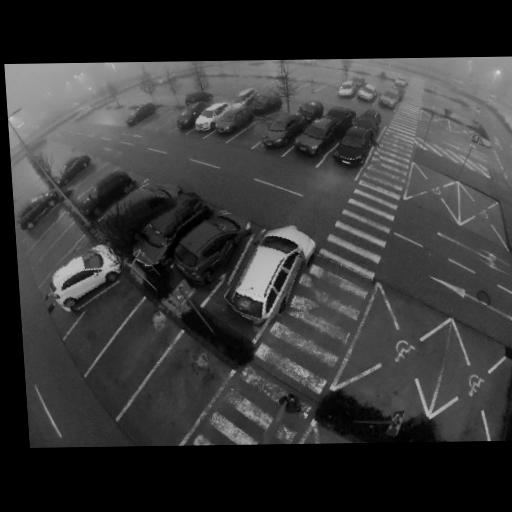busy: (219, 228, 316, 322), (170, 207, 253, 281), (44, 243, 125, 317), (133, 193, 210, 264), (105, 179, 179, 237), (75, 171, 132, 216), (331, 118, 380, 170), (292, 114, 348, 159), (256, 114, 309, 150), (15, 193, 59, 228), (193, 103, 234, 133), (53, 156, 90, 186), (215, 108, 255, 134), (119, 103, 158, 128), (246, 92, 283, 118), (174, 104, 207, 129), (227, 87, 259, 109), (292, 102, 324, 124), (336, 79, 362, 101), (377, 88, 403, 109), (355, 82, 378, 103)
free: (149, 370, 199, 417), (110, 336, 155, 371), (94, 296, 129, 323), (77, 171, 109, 193), (48, 244, 77, 267), (155, 106, 182, 126), (36, 212, 60, 233), (44, 222, 63, 247), (256, 77, 284, 91), (248, 124, 269, 141), (322, 87, 337, 98), (300, 86, 315, 95)
